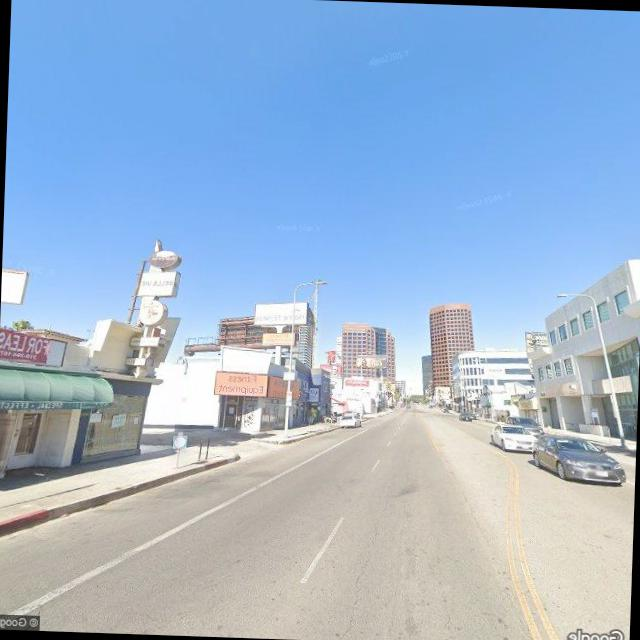pothole: (332, 521, 381, 640)
